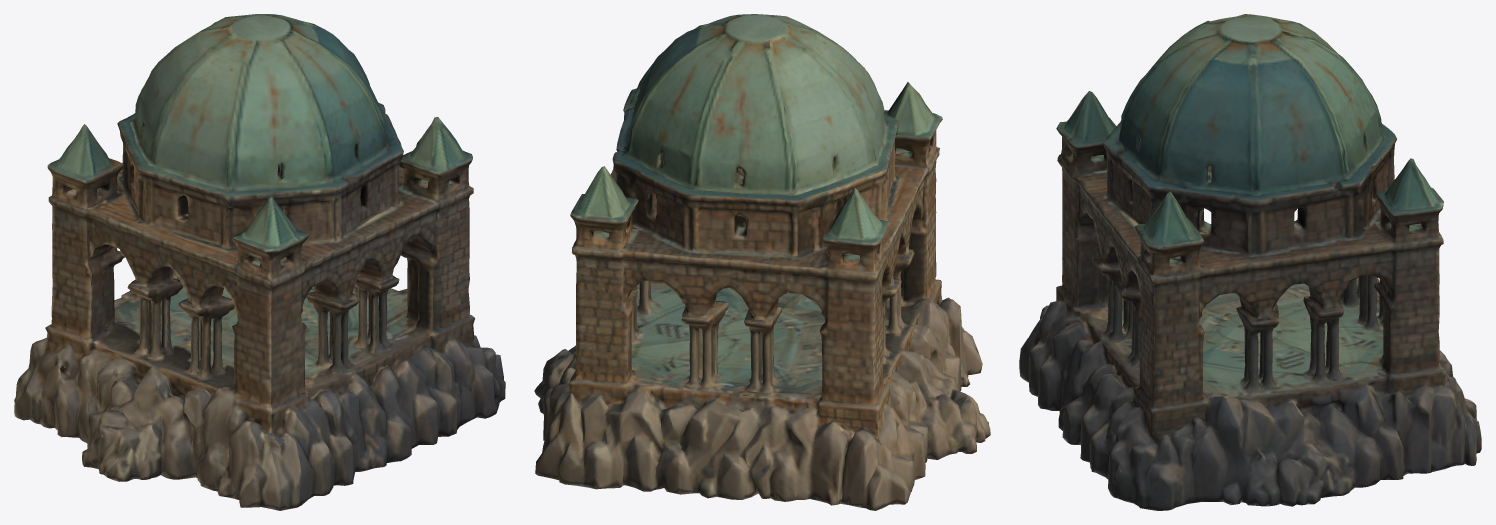
The model's file is 롯데_돔요새.glb.
3 renders of one model, left to right at view 1: azimuth 30°, elevation 25°; view 2: azimuth 150°, elevation 25°; view 3: azimuth 270°, elevation 25°, orthographic. The views are drawn at different scales.
Parts seen in each view (by area): view 1: texture_mapping; view 2: texture_mapping; view 3: texture_mapping.
Part boxes in pixels (x1,y1,x2,y2): texture_mapping: (14,14,505,510); texture_mapping: (534,14,990,510); texture_mapping: (1019,14,1481,510).
Size of the model in its own units: 0.9989 by 0.927 by 1.
1 material, 1 textured.
